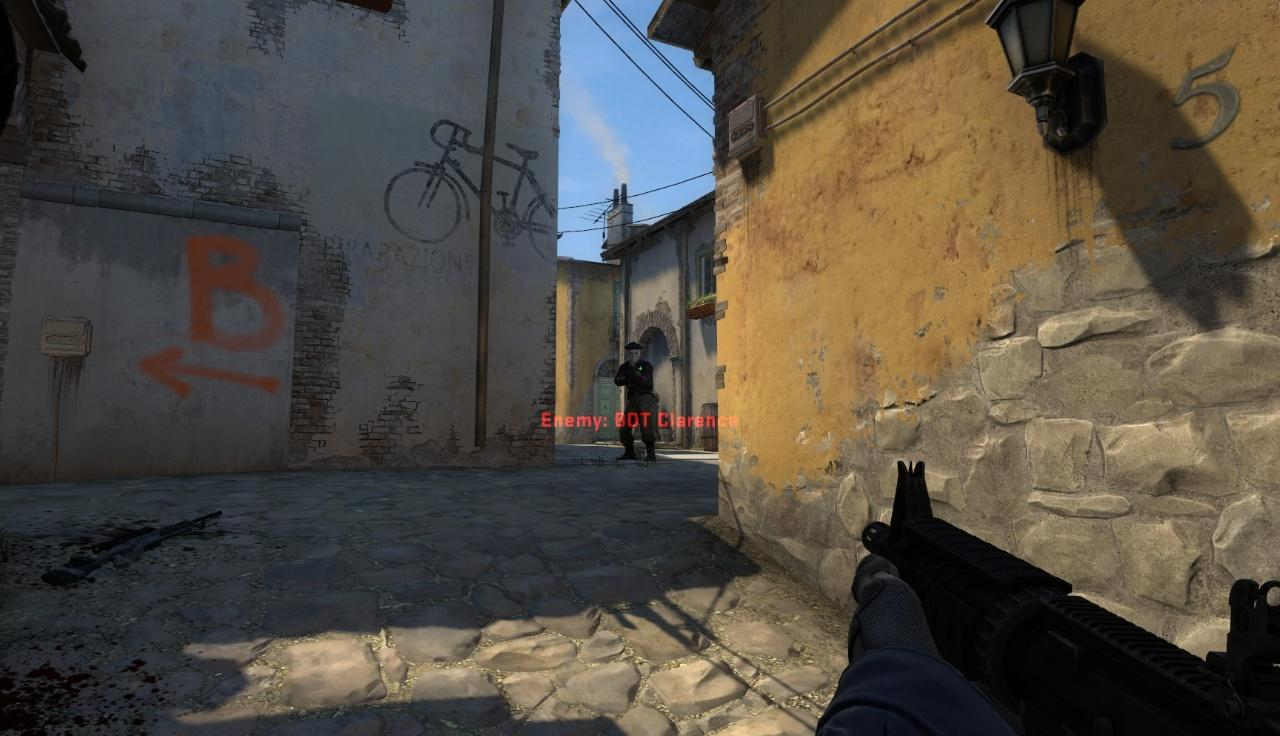rifle: (845, 464, 1279, 730)
tt: (615, 340, 661, 460)
tthead: (625, 342, 642, 364)
